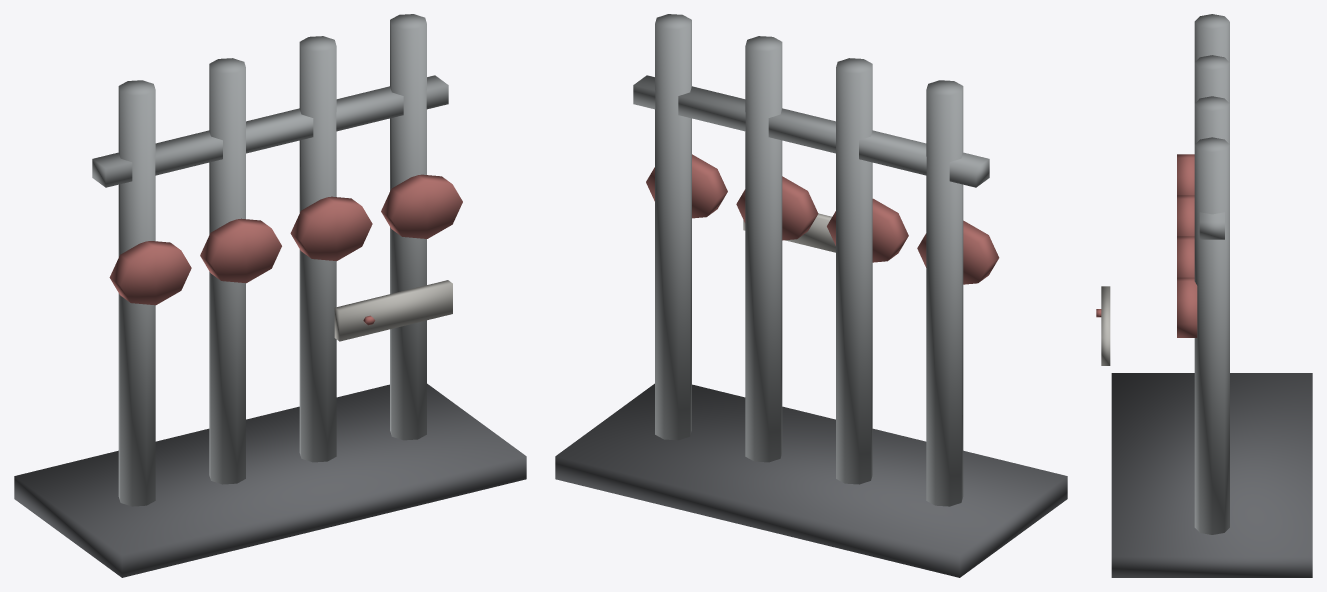
Rendered from sprinkler_riser__squat.glb.
The picture shows the model from 3 angles, left to right: view 1: azimuth 30°, elevation 25°; view 2: azimuth 150°, elevation 25°; view 3: azimuth 270°, elevation 25°; orthographic projection. The views are drawn at different scales.
Parts seen in each view (by area): view 1: world; view 2: world; view 3: world.
Part boxes in pixels (box(x1,y1,x2,y2)): world: box(14, 14, 526, 577); world: box(555, 14, 1067, 577); world: box(1096, 14, 1312, 577).
Bounding box in the file's own units: 0.935 × 0.9576 × 0.4655.
